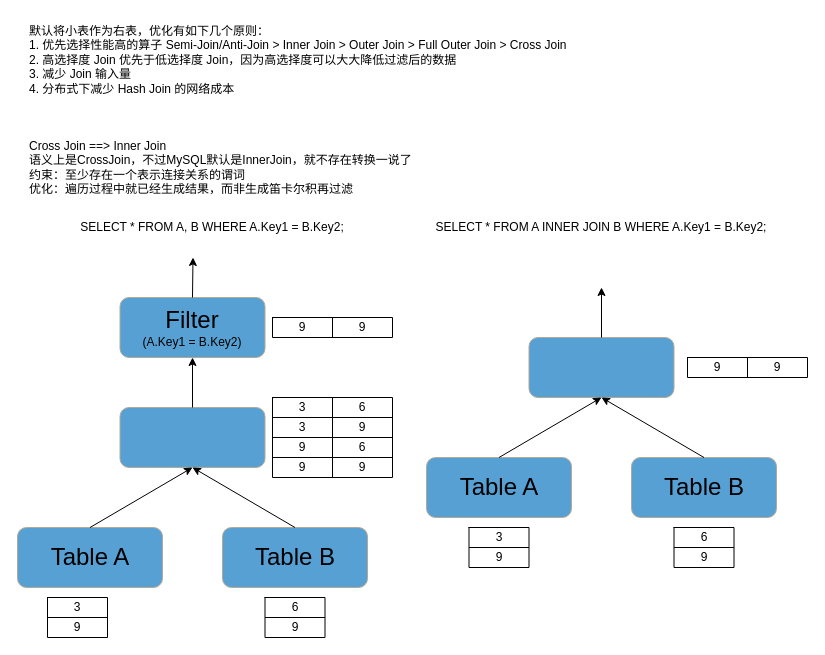
Image size: 825x655. Some labels were removed from this diagram. The centre of each missing label's shape, as x and y in pixels:
"Cross Join" goes at point 192,437.
"Inner Join" goes at point 601,367.
